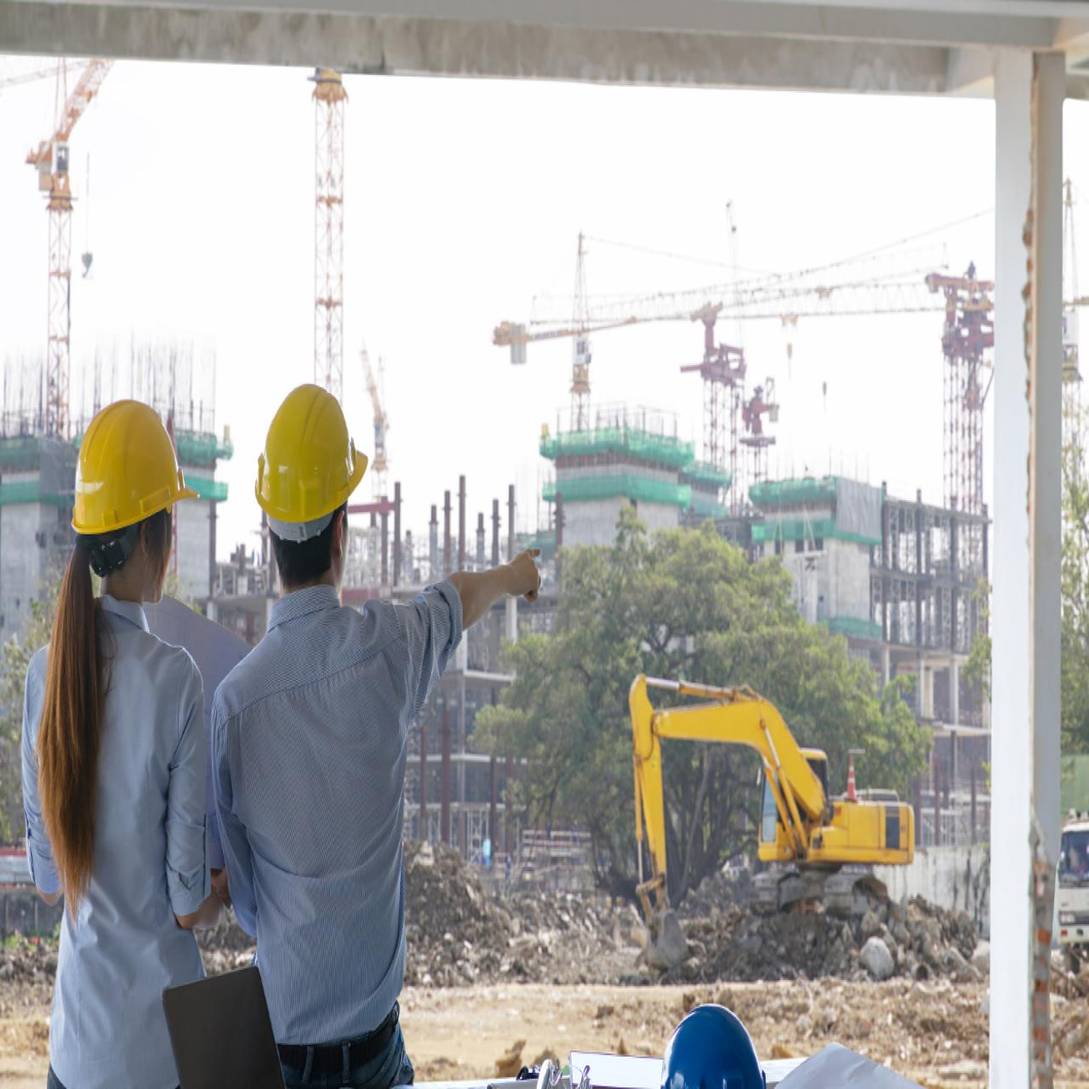NO_Safety_Vest: (218, 578, 461, 1034), (30, 623, 215, 1069)
Person: (213, 366, 539, 1089), (16, 379, 248, 1089)
